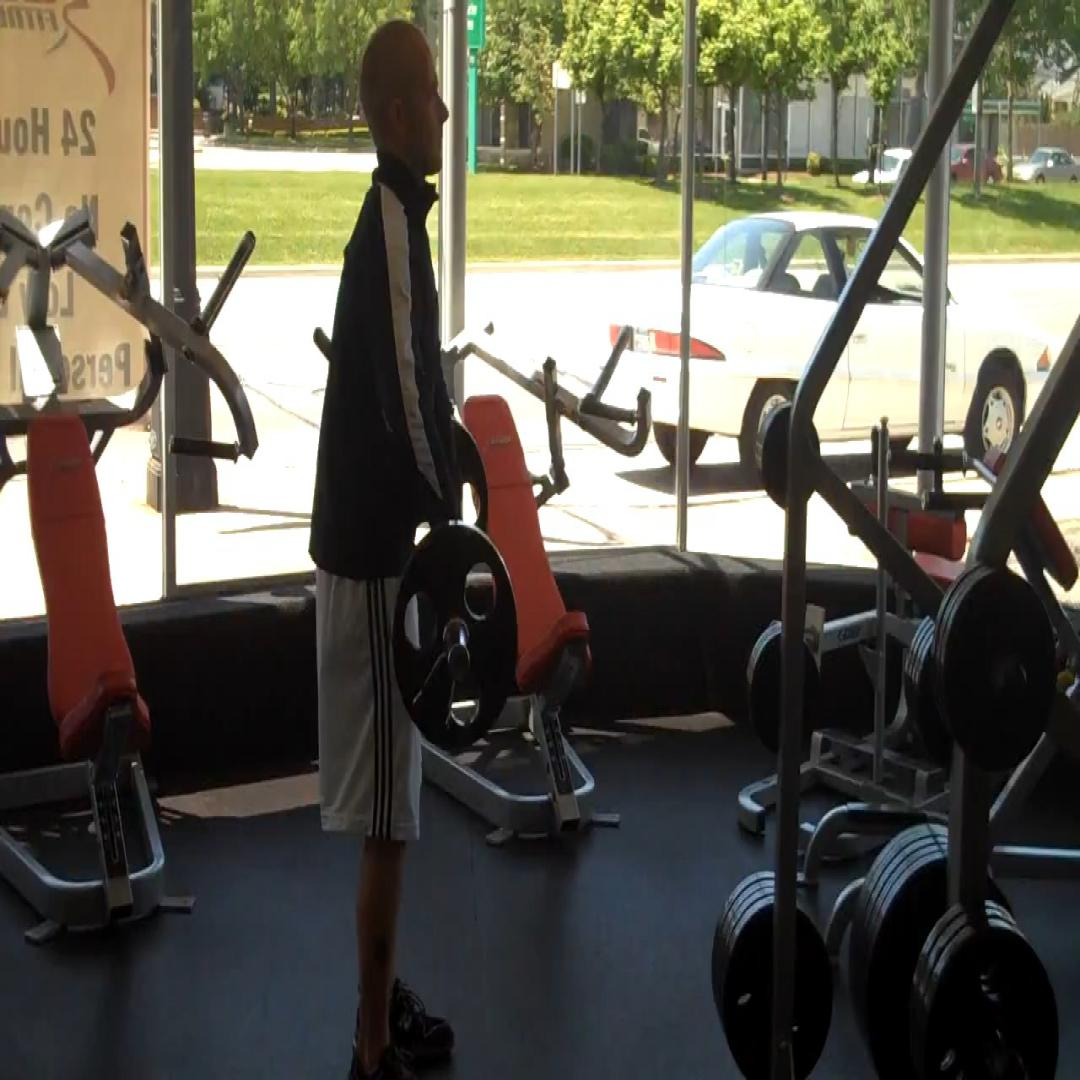Bar: (447, 644, 472, 683)
Barbell: (392, 524, 518, 752)
